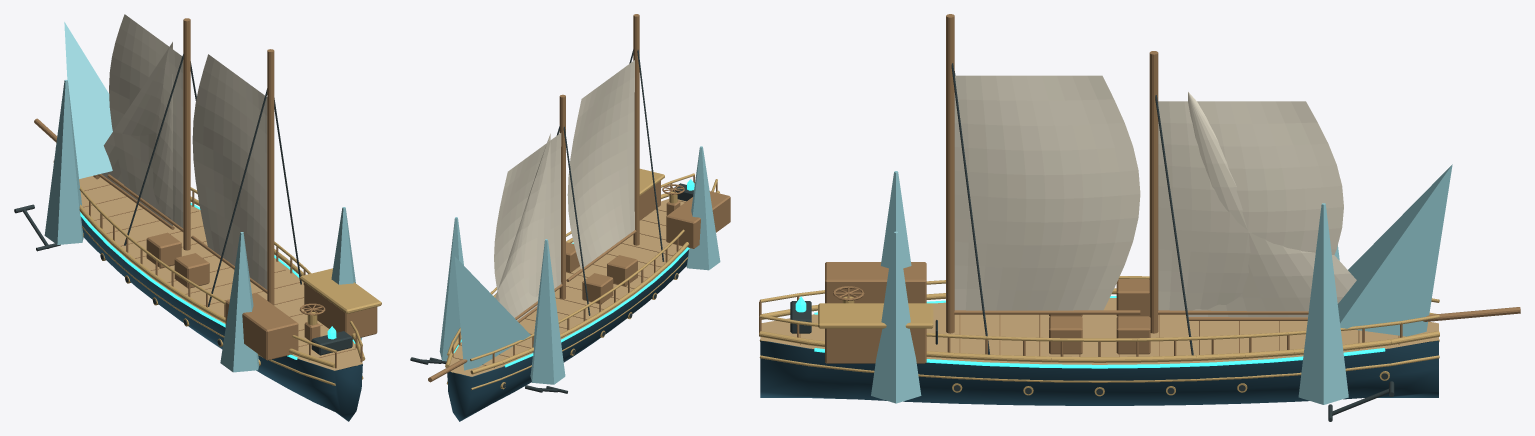
Rendered from premium_golden_clipper.glb.
3 renders of one model, left to right at view 1: azimuth 30°, elevation 25°; view 2: azimuth 150°, elevation 25°; view 3: azimuth 270°, elevation 25°, orthographic. The views are drawn at different scales.
Visible parts, largest first — view 1: premium_golden_clipper; view 2: premium_golden_clipper; view 3: premium_golden_clipper.
Part boxes in pixels (x1,y1,x2,y2): premium_golden_clipper: [14, 14, 381, 421]; premium_golden_clipper: [410, 14, 730, 421]; premium_golden_clipper: [759, 14, 1520, 421].
Size of the model in its own units: 4.5 by 8.7 by 15.71.
